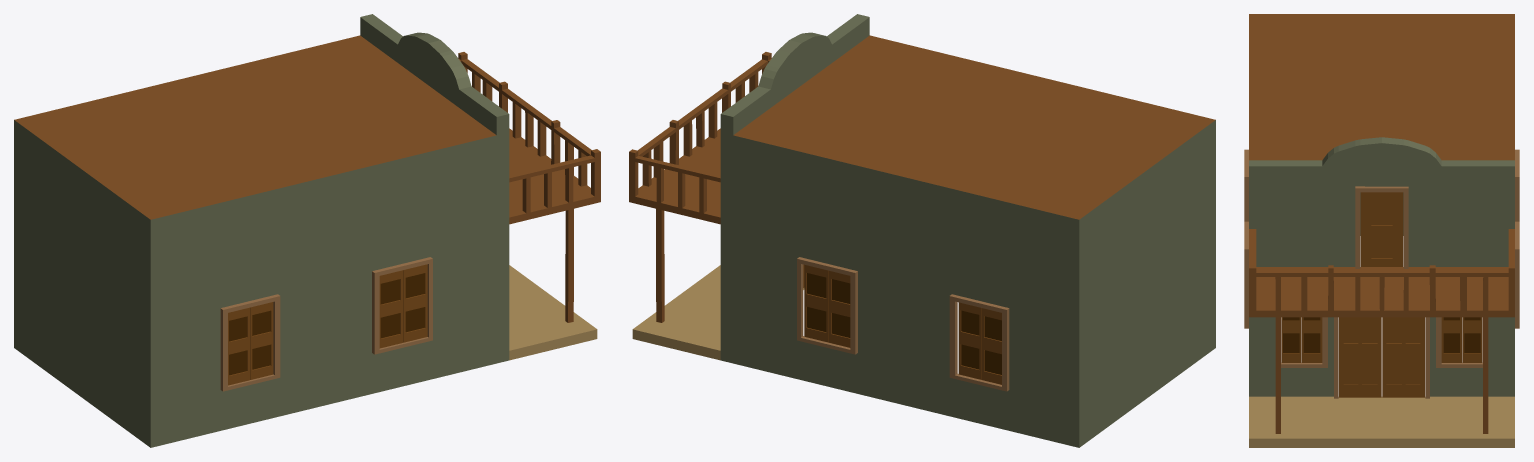
The model's file is House_5.fbx.
The picture shows the model from 3 angles, left to right: view 1: azimuth 30°, elevation 25°; view 2: azimuth 150°, elevation 25°; view 3: azimuth 270°, elevation 25°; orthographic projection. The views are drawn at different scales.
Parts seen in each view (by area): view 1: House_5; view 2: House_5; view 3: House_5.
Boxes of the visible parts, bbox=[...] form: House_5: bbox=[14, 14, 600, 447]; House_5: bbox=[629, 14, 1215, 447]; House_5: bbox=[1244, 14, 1519, 447].
Bounding box in the file's own units: 23.9 × 13.72 × 13.02.
